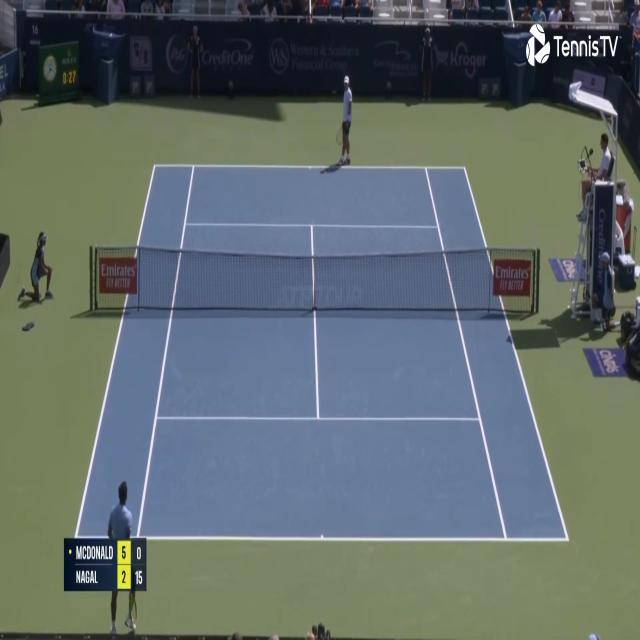tennis-player: (107, 476, 138, 634), (334, 72, 354, 170)
